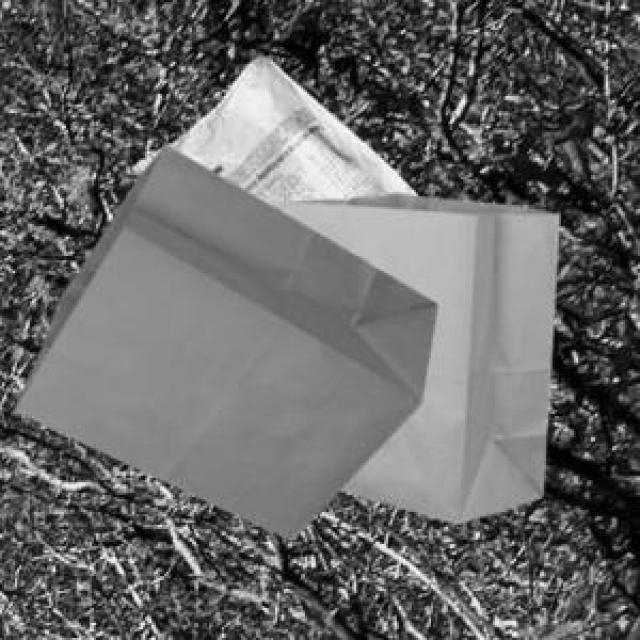paper: (11, 141, 433, 536), (282, 190, 555, 521)
